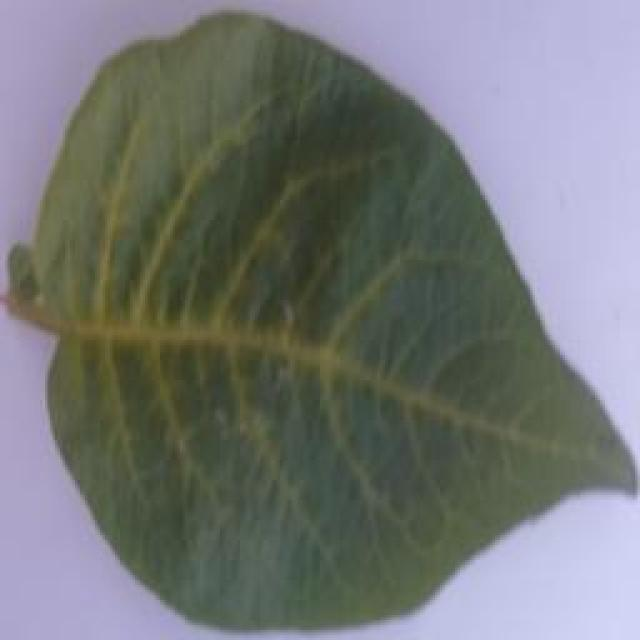Potato_Healthy: (4, 6, 626, 632)
